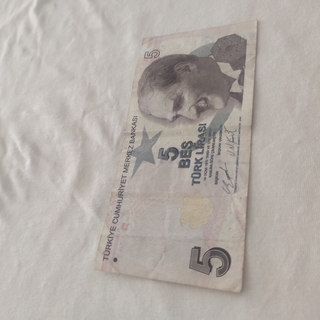5TLFront: (93, 20, 258, 294)
